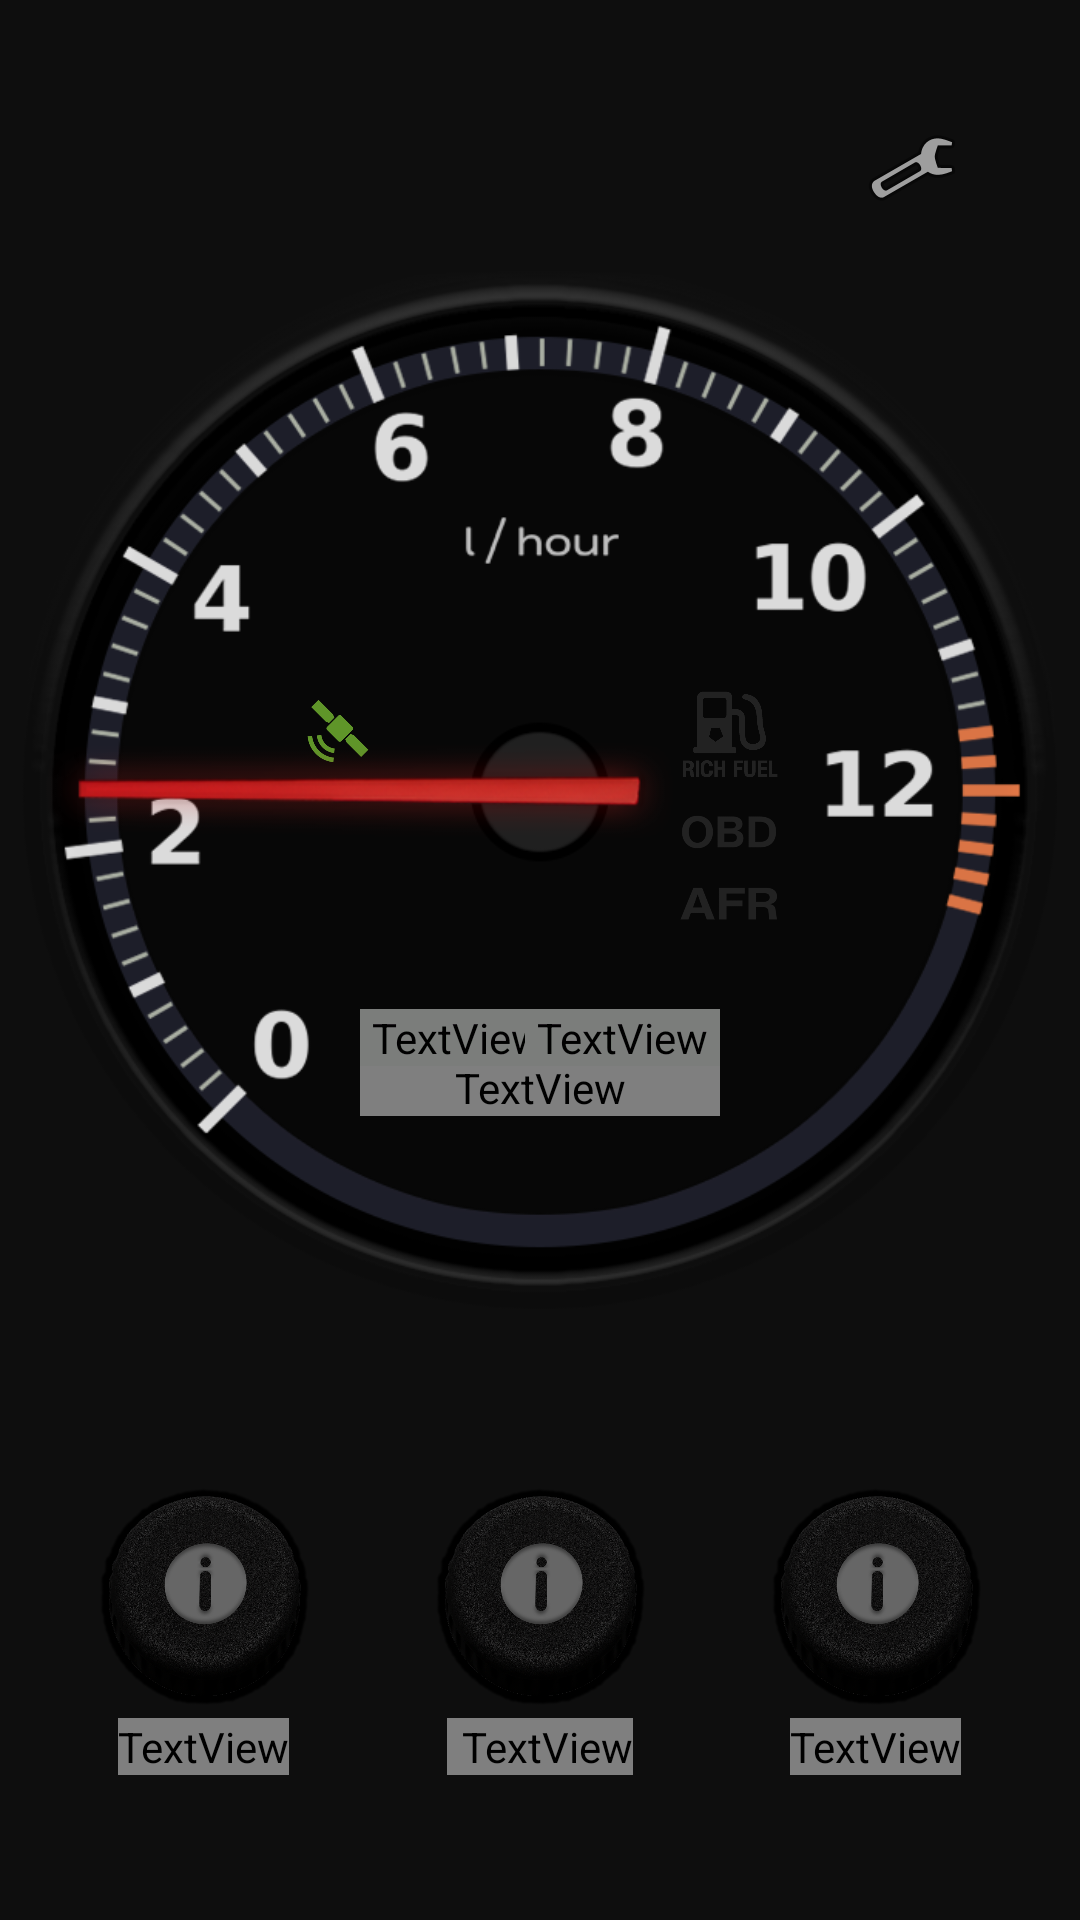

Where icons sit on this 1080x1920 app screen, as (x1, y1, x2, y2):
manage: (872, 138, 952, 198)
trip knob day: (123, 1497, 290, 1664), (459, 1497, 626, 1664), (795, 1497, 962, 1664)
